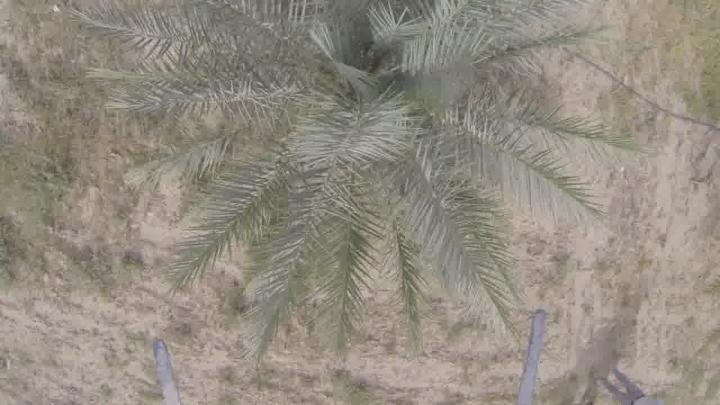Date-Palm-Crown: (235, 0, 489, 200)
